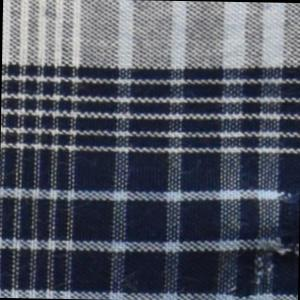Damage: (217, 216, 299, 300)
